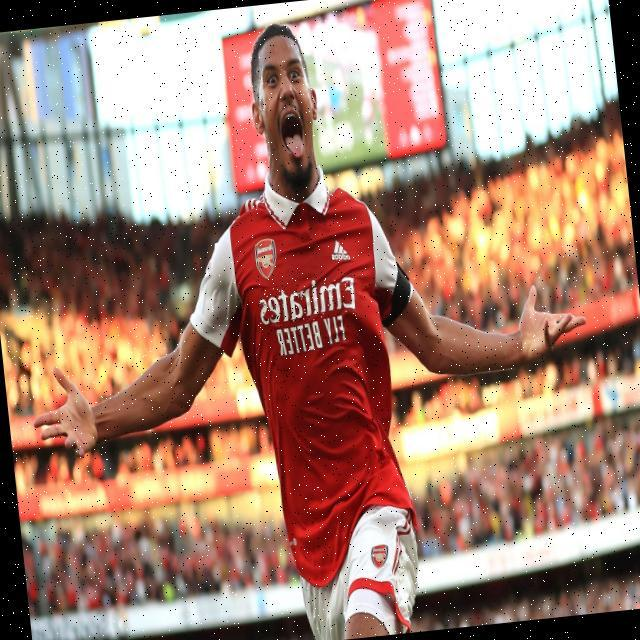Adidas: (330, 238, 351, 263)
Emirates: (257, 276, 358, 326)
